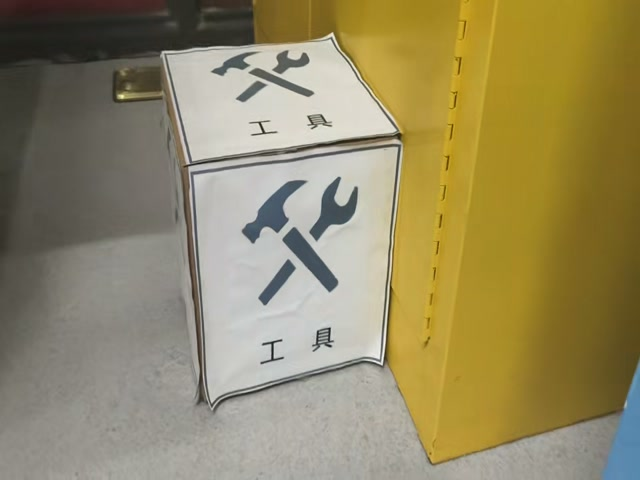Cube_tool: (166, 39, 405, 167)
